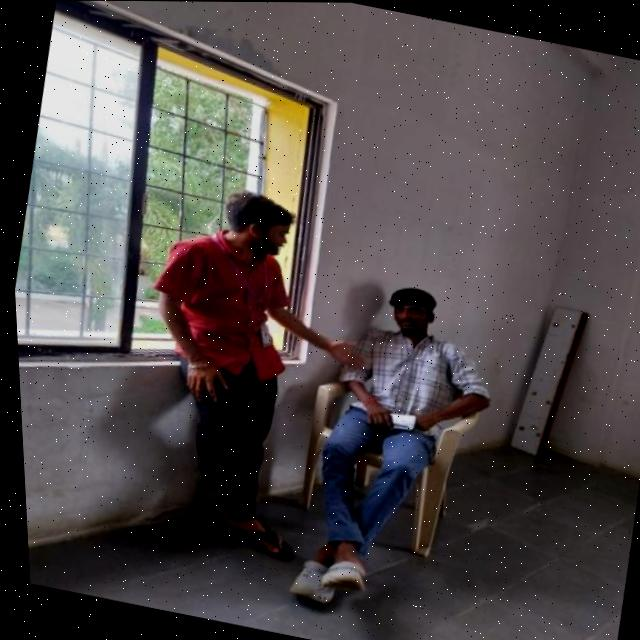id_card: (197, 227, 291, 353)
